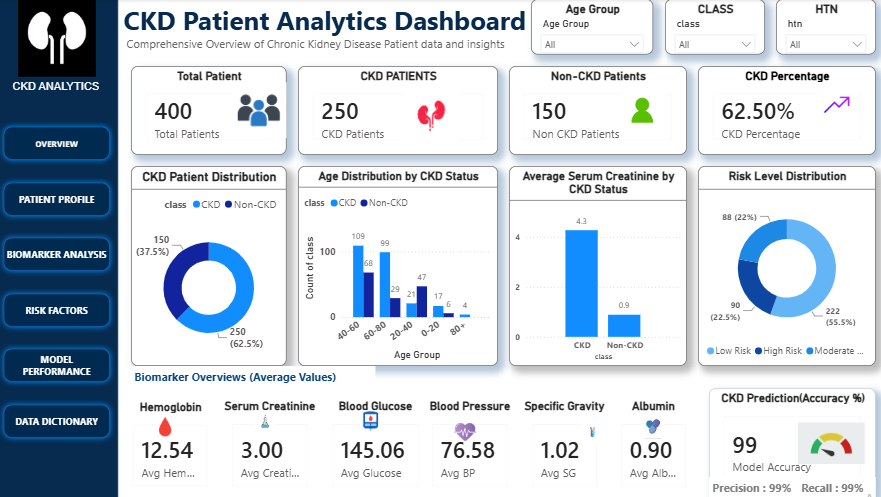

The page's visual inventory and layout, read from the dashboard file:
{"tool":"powerbi","page":{"name":"Patient Analysis","canvas":[1280,720],"ordinal":0},"visuals":[{"type":"donutChart","title":"CKD Patient Distribution","fields":{"Category":["dashboard_dataset_real.class"],"Y":["CountNonNull(dashboard_dataset_real.class)"]},"box":[192,240,224,288],"z":0},{"type":"shape","title":"CKD ANALYTICS","box":[0,0,173.1,720],"z":1000},{"type":"image","box":[0,0,169.2,112],"z":2000},{"type":"textbox","box":[15.4,112,138.5,32],"z":3000},{"type":"shape","box":[0,176,169.2,64],"z":4000},{"type":"shape","box":[0,256,169.2,64],"z":5000},{"type":"shape","box":[0,336,169.2,64],"z":6000},{"type":"shape","box":[0,416,169.2,64],"z":7000},{"type":"shape","box":[0,496,169.2,64],"z":8000},{"type":"shape","box":[0,576,169.2,64],"z":9000},{"type":"textbox","box":[176,0,592,96],"z":10000},{"type":"cardVisual","title":"Total Patient","fields":{"Data":["dashboard_dataset_real.Total Patients"]},"box":[192,96,224,128],"z":11000},{"type":"image","box":[336,112,80,96],"z":12000},{"type":"cardVisual","title":"CKD PATIENTS","fields":{"Data":["dashboard_dataset_real.CKD Patients"]},"box":[432,96,288,128],"z":13000},{"type":"image","box":[576,128,96,80],"z":14000},{"type":"cardVisual","title":"Non-CKD Patients","fields":{"Data":["dashboard_dataset_real.Non CKD Patients"]},"box":[736,96,256,128],"z":15000},{"type":"image","box":[896,128,64,64],"z":16000},{"type":"cardVisual","title":"CKD Percentage","fields":{"Data":["dashboard_dataset_real.CKD Percentage"]},"box":[1008,96,256,128],"z":17000},{"type":"image","box":[1168,128,80,48],"z":18000},{"type":"slicer","title":"Age Group","fields":{"Values":["dashboard_dataset_real.Age Group"]},"box":[768,0,176,80],"z":19000},{"type":"slicer","title":"CLASS","fields":{"Values":["dashboard_dataset_real.class"]},"box":[960,0,144,80],"z":20000},{"type":"slicer","title":"HTN","fields":{"Values":["dashboard_dataset_real.htn"]},"box":[1120,0,144,80],"z":21000},{"type":"clusteredColumnChart","title":"Age Distribution by CKD Status","fields":{"Category":["dashboard_dataset_real.Age Group"],"Series":["dashboard_dataset_real.class"],"Y":["CountNonNull(dashboard_dataset_real.class)"]},"box":[432,240,288,288],"z":22000},{"type":"cardVisual","title":"Hemoglobin","fields":{"Data":["dashboard_dataset_real.Avg Hemoglobin"]},"box":[176,576,144,144],"z":23000},{"type":"image","box":[224,592,32,48],"z":24000},{"type":"cardVisual","title":"Serum Creatinine","fields":{"Data":["dashboard_dataset_real.Avg Creatinine"]},"box":[320,576,144,144],"z":25000},{"type":"image","box":[368,592,32,32],"z":26000},{"type":"cardVisual","title":"Blood Glucose","fields":{"Data":["dashboard_dataset_real.Avg Glucose"]},"box":[464,576,160,144],"z":27000},{"type":"image","box":[512,592,48,32],"z":28000},{"type":"cardVisual","title":"Blood Pressure","fields":{"Data":["dashboard_dataset_real.Avg BP"]},"box":[608,576,144,144],"z":29000},{"type":"image","box":[656,608,32,32],"z":30000},{"type":"cardVisual","title":"Specific Gravity","fields":{"Data":["dashboard_dataset_real.Avg SG"]},"box":[752,576,128,144],"z":31000},{"type":"image","box":[832,608,48,32],"z":32000},{"type":"cardVisual","title":"Albumin","fields":{"Data":["dashboard_dataset_real.Avg Albumin"]},"box":[880,576,128,144],"z":33000},{"type":"image","box":[928,592,32,48],"z":34000},{"type":"textbox","box":[192,528,352,32],"z":35000},{"type":"cardVisual","title":"CKD Prediction(Accuracy %)","fields":{"Data":["dashboard_dataset_real.Model Accuracy"]},"box":[1024,560,240,160],"z":36000},{"type":"image","box":[1152,608,96,64],"z":37000},{"type":"textbox","box":[1024,688,128,32],"z":38000},{"type":"textbox","box":[1152,688,112,32],"z":39000},{"type":"clusteredColumnChart","title":"Average Serum Creatinine by CKD Status","fields":{"Category":["dashboard_dataset_real.class"],"Y":["Avg(dashboard_dataset_real.sc)"]},"box":[736,240,256,288],"z":40000},{"type":"donutChart","title":"Risk Level Distribution","fields":{"Category":["dashboard_dataset_real.Risk Level"],"Y":["CountNonNull(dashboard_dataset_real.Risk Level)"]},"box":[1008,240,256,288],"z":41000}]}

Visuals, with their boxes in screenshot pixels (x1, y1, x2, y2), scaled from the page's 1280x720 canvas onto the 881x497 screenshot:
"CKD Patient Distribution" donutChart: {"x1": 132, "y1": 166, "x2": 286, "y2": 364}
"CKD ANALYTICS" shape: {"x1": 0, "y1": 0, "x2": 119, "y2": 496}
image: {"x1": 0, "y1": 0, "x2": 116, "y2": 77}
textbox: {"x1": 11, "y1": 77, "x2": 106, "y2": 99}
shape: {"x1": 0, "y1": 121, "x2": 116, "y2": 166}
shape: {"x1": 0, "y1": 177, "x2": 116, "y2": 221}
shape: {"x1": 0, "y1": 232, "x2": 116, "y2": 276}
shape: {"x1": 0, "y1": 287, "x2": 116, "y2": 331}
shape: {"x1": 0, "y1": 342, "x2": 116, "y2": 387}
shape: {"x1": 0, "y1": 398, "x2": 116, "y2": 442}
textbox: {"x1": 121, "y1": 0, "x2": 529, "y2": 66}
"Total Patient" cardVisual: {"x1": 132, "y1": 66, "x2": 286, "y2": 155}
image: {"x1": 231, "y1": 77, "x2": 286, "y2": 144}
"CKD PATIENTS" cardVisual: {"x1": 297, "y1": 66, "x2": 496, "y2": 155}
image: {"x1": 396, "y1": 88, "x2": 463, "y2": 144}
"Non-CKD Patients" cardVisual: {"x1": 507, "y1": 66, "x2": 683, "y2": 155}
image: {"x1": 617, "y1": 88, "x2": 661, "y2": 133}
"CKD Percentage" cardVisual: {"x1": 694, "y1": 66, "x2": 870, "y2": 155}
image: {"x1": 804, "y1": 88, "x2": 859, "y2": 121}
"Age Group" slicer: {"x1": 529, "y1": 0, "x2": 650, "y2": 55}
"CLASS" slicer: {"x1": 661, "y1": 0, "x2": 760, "y2": 55}
"HTN" slicer: {"x1": 771, "y1": 0, "x2": 870, "y2": 55}
"Age Distribution by CKD Status" clusteredColumnChart: {"x1": 297, "y1": 166, "x2": 496, "y2": 364}
"Hemoglobin" cardVisual: {"x1": 121, "y1": 398, "x2": 220, "y2": 496}
image: {"x1": 154, "y1": 409, "x2": 176, "y2": 442}
"Serum Creatinine" cardVisual: {"x1": 220, "y1": 398, "x2": 319, "y2": 496}
image: {"x1": 253, "y1": 409, "x2": 275, "y2": 431}
"Blood Glucose" cardVisual: {"x1": 319, "y1": 398, "x2": 429, "y2": 496}
image: {"x1": 352, "y1": 409, "x2": 385, "y2": 431}
"Blood Pressure" cardVisual: {"x1": 418, "y1": 398, "x2": 518, "y2": 496}
image: {"x1": 452, "y1": 420, "x2": 474, "y2": 442}
"Specific Gravity" cardVisual: {"x1": 518, "y1": 398, "x2": 606, "y2": 496}
image: {"x1": 573, "y1": 420, "x2": 606, "y2": 442}
"Albumin" cardVisual: {"x1": 606, "y1": 398, "x2": 694, "y2": 496}
image: {"x1": 639, "y1": 409, "x2": 661, "y2": 442}
textbox: {"x1": 132, "y1": 364, "x2": 374, "y2": 387}
"CKD Prediction(Accuracy %)" cardVisual: {"x1": 705, "y1": 387, "x2": 870, "y2": 496}
image: {"x1": 793, "y1": 420, "x2": 859, "y2": 464}
textbox: {"x1": 705, "y1": 475, "x2": 793, "y2": 496}
textbox: {"x1": 793, "y1": 475, "x2": 870, "y2": 496}
"Average Serum Creatinine by CKD Status" clusteredColumnChart: {"x1": 507, "y1": 166, "x2": 683, "y2": 364}
"Risk Level Distribution" donutChart: {"x1": 694, "y1": 166, "x2": 870, "y2": 364}
